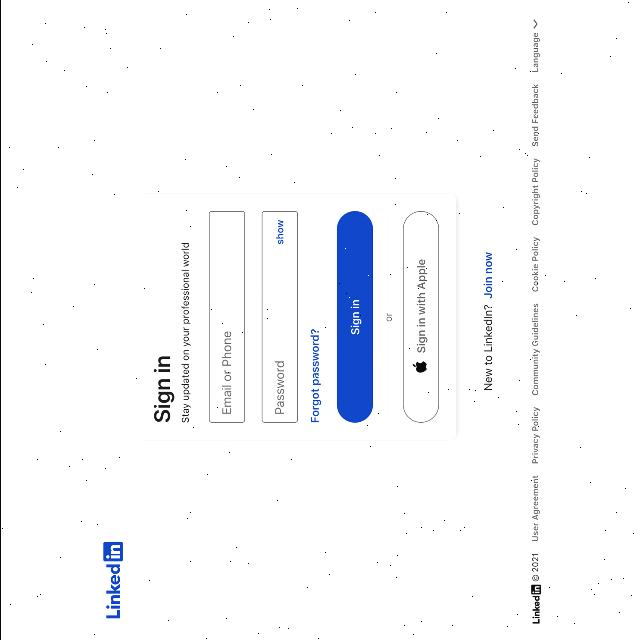QLabel: (178, 241, 190, 424), (150, 352, 174, 424), (306, 327, 320, 425), (412, 259, 426, 355), (481, 303, 494, 391), (530, 304, 538, 396), (530, 474, 538, 542), (530, 158, 538, 226), (530, 84, 538, 146), (482, 252, 492, 300), (530, 408, 538, 464), (530, 236, 538, 292), (348, 300, 360, 336), (530, 32, 538, 74), (530, 554, 538, 572), (384, 312, 391, 324)
VBtn: (399, 210, 438, 424), (334, 210, 372, 424)
VCard: (124, 189, 460, 443)
VDivider: (385, 213, 387, 304), (385, 330, 387, 420)
VFooter: (518, 0, 554, 640)
VIcon: (530, 574, 538, 582), (532, 18, 536, 30)
VImg: (98, 538, 125, 624), (528, 584, 540, 624), (409, 361, 427, 374)
VTextField: (257, 210, 297, 424), (206, 210, 244, 424)
